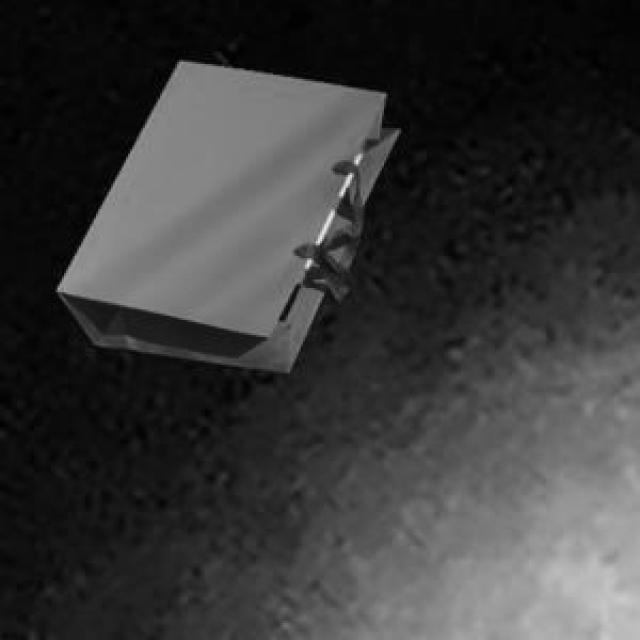paper: (53, 58, 395, 367)
